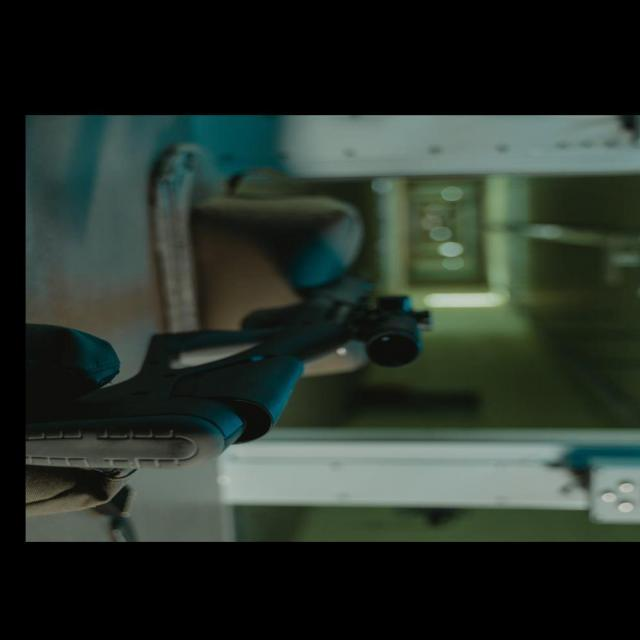weapon: (26, 278, 434, 470)
